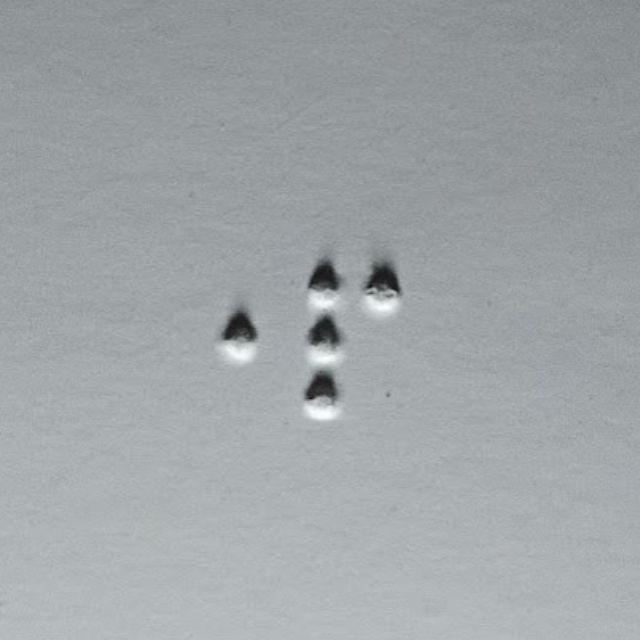dot_5: (162, 265, 257, 416)
patuloy: (306, 267, 401, 418)
